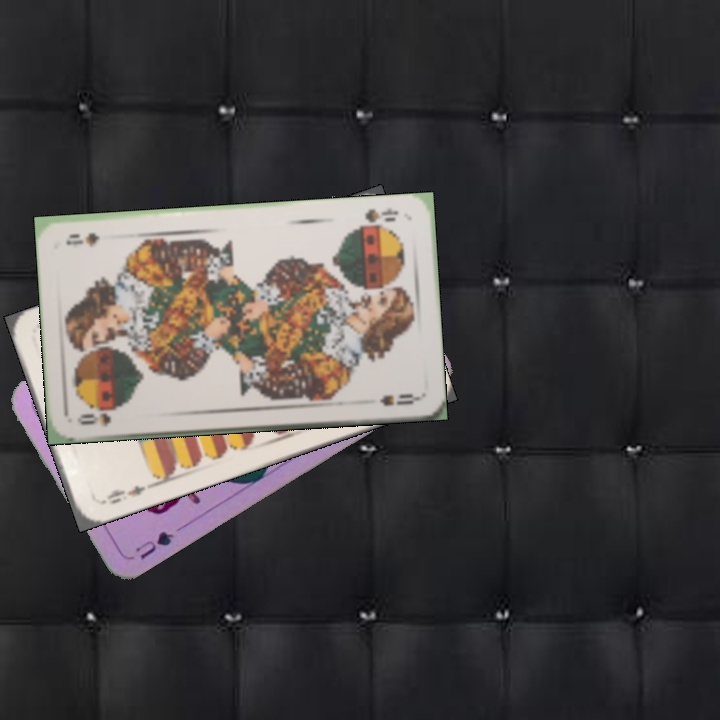E9: (95, 481, 148, 507)
GU: (131, 526, 177, 562)
SO: (355, 203, 401, 230), (72, 405, 119, 430)
